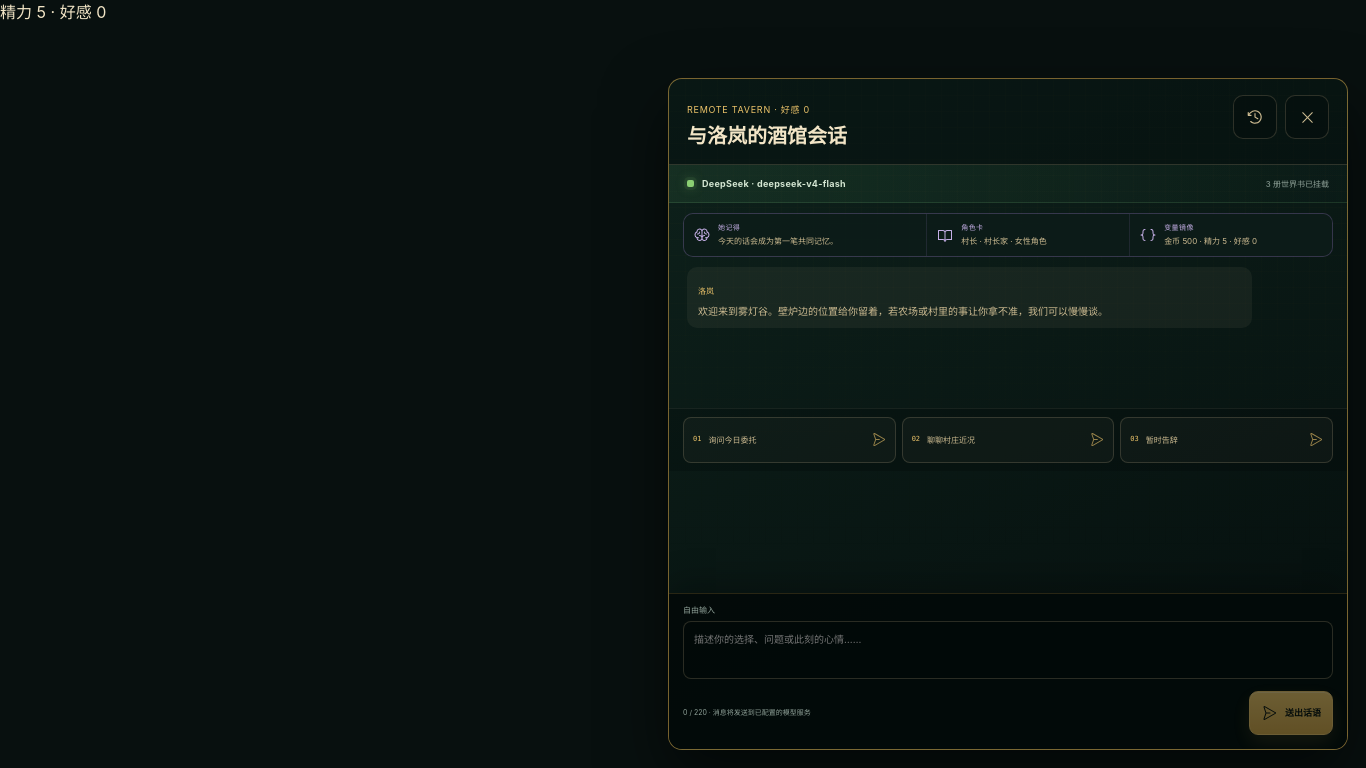
NPC 酒馆会话 › 远程请求失败时保留玩家输入且不结算精力和好感
Type "今天有什么委托？" into the text box labelled "自由输入" at (1008, 650), box [683, 621, 1333, 679]
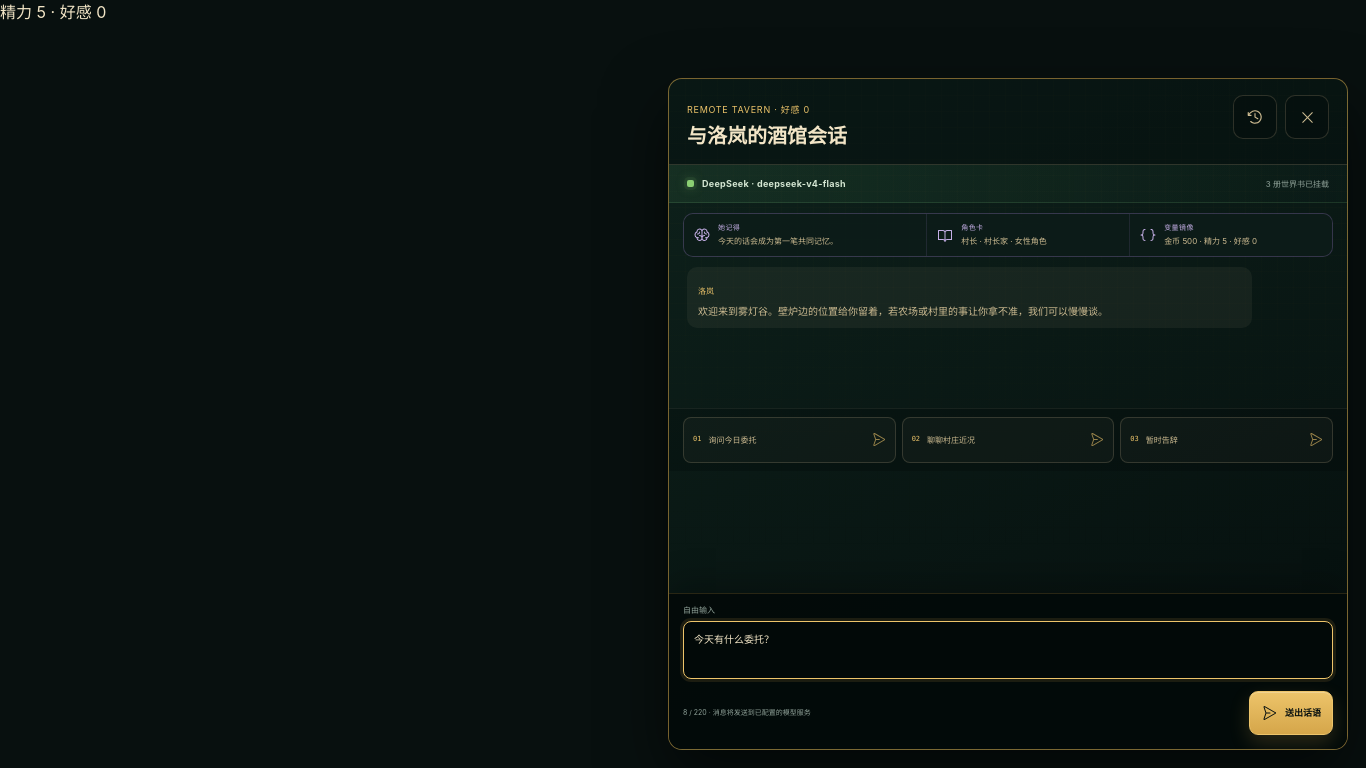
Click the button "送出话语" at (1291, 713), box [1249, 691, 1333, 735]
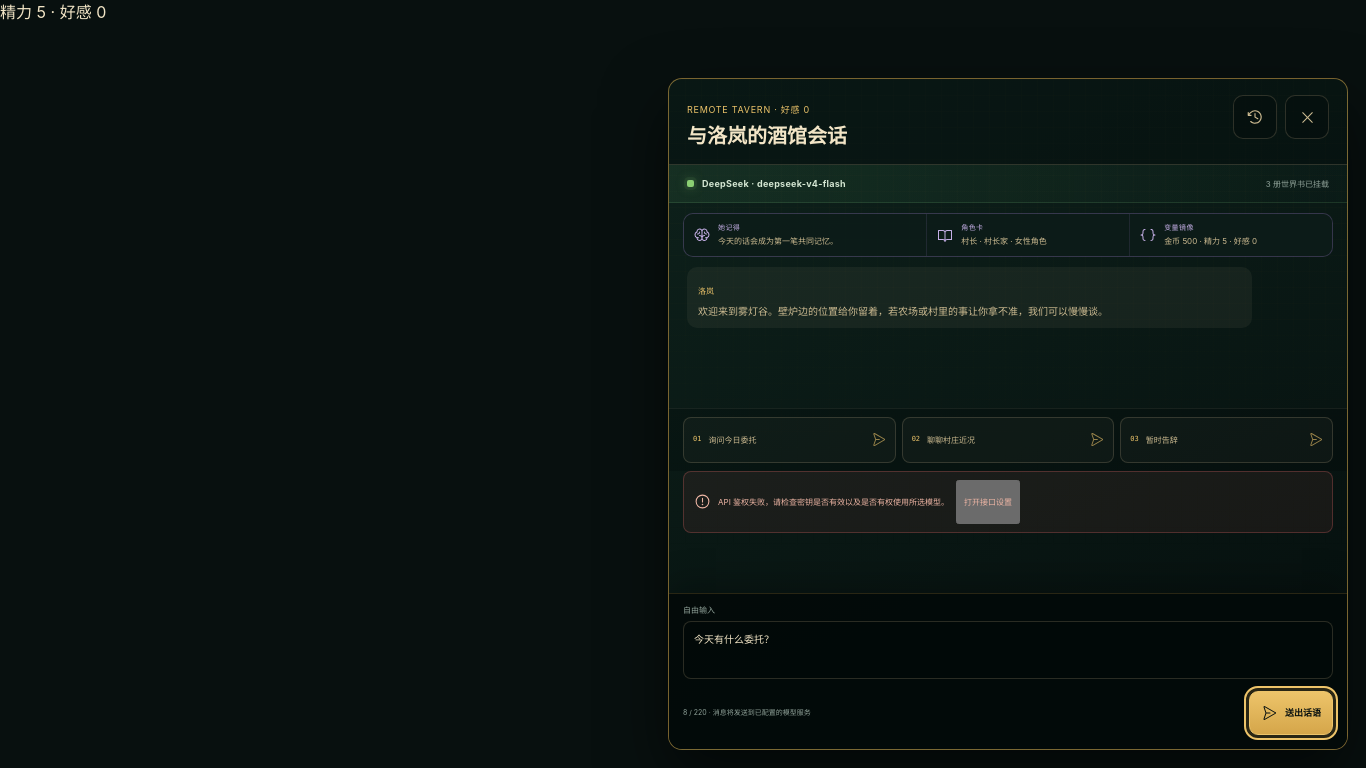
Expected: the text with test id "game-state-probe" reads "精力 5 · 好感 0", [0, 2, 106, 22]
Result: the message reads "API 鉴权失败，请检查密钥是否有效以及是否有权使用所选模型。 打开接口设置" at [718, 497, 949, 507]
